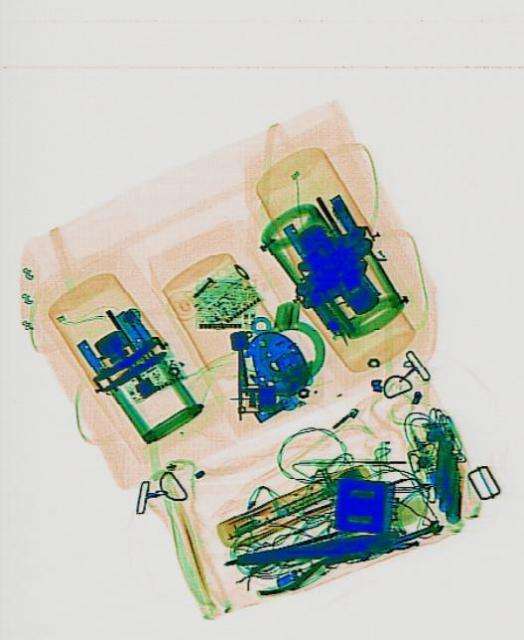Pliers: (242, 521, 378, 601)
